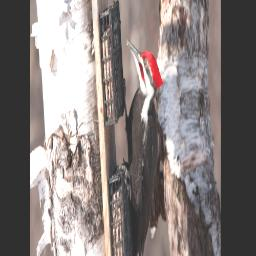Woodpecker: (118, 38, 166, 256)
